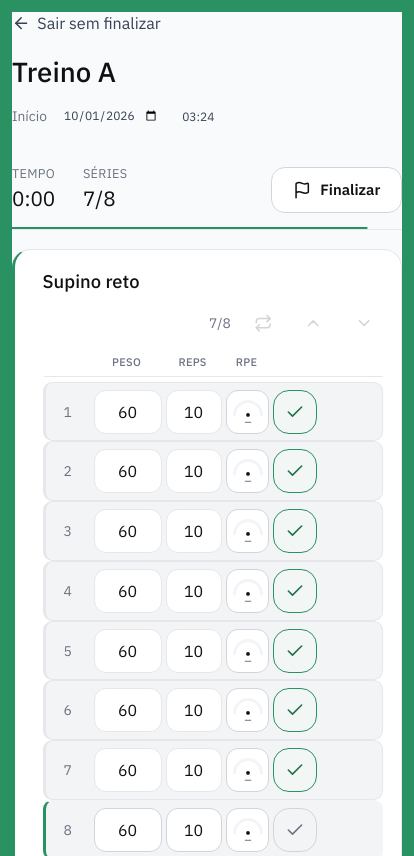
Scenario: finishing a workout with sets still open › says 'série' in the singular for the last set
The width and height of the screenshot is (414, 856).
Expected: the heading "Treino A" is shown, top-left (12, 54), bottom-right (116, 90)
Click the button "Finalizar" at [336, 190], box top-left (271, 167), bottom-right (402, 213)
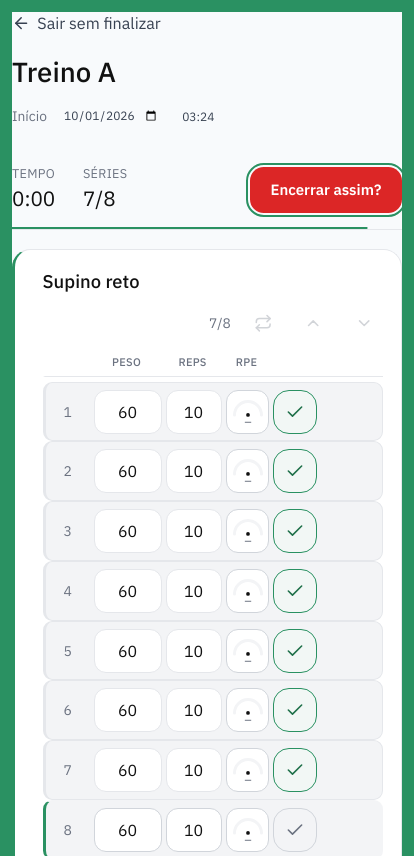
Now the button with aria-label "Encerrar assim? 1 série ainda pendente." is shown, box top-left (250, 167), bottom-right (402, 213)
